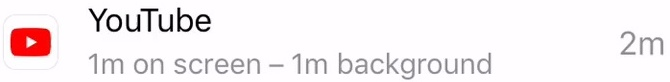name: (80, 4, 225, 40)
time: (87, 47, 129, 82), (290, 50, 335, 82)
